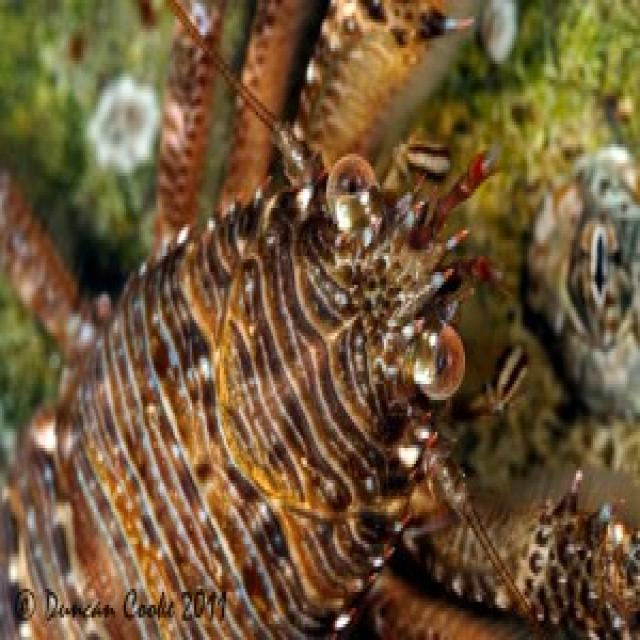lobsters: (25, 152, 545, 615)
